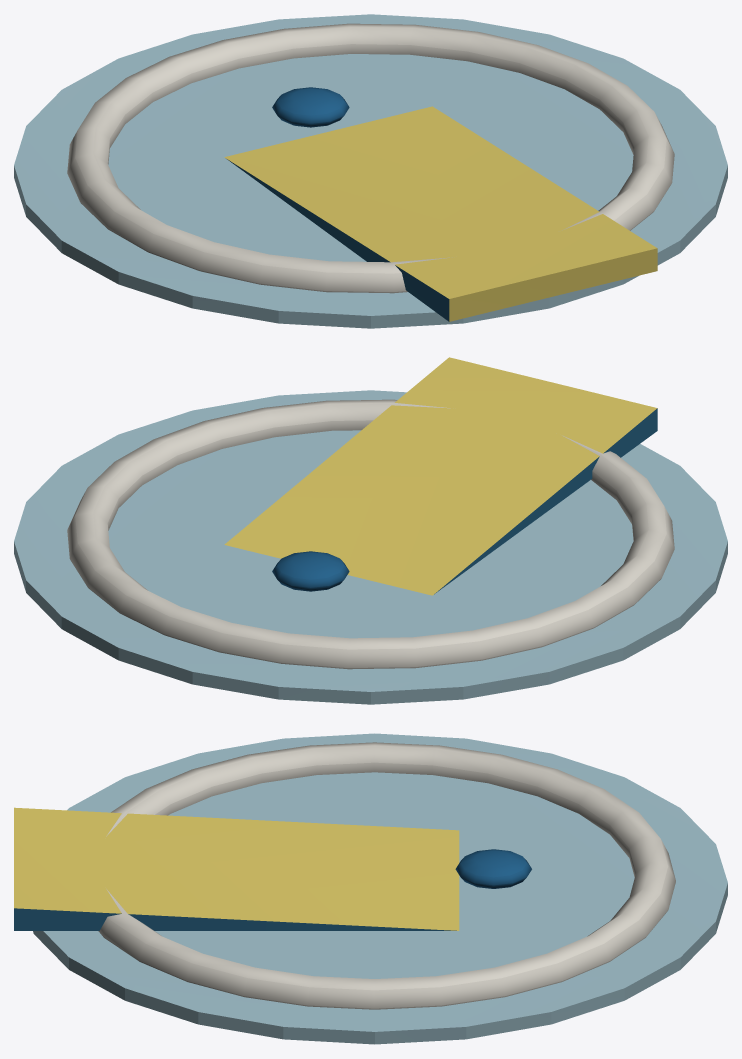
File: glacier_surface_inlay_v1.glb
The picture shows the model from 3 angles, top to bottom: view 1: azimuth 30°, elevation 25°; view 2: azimuth 150°, elevation 25°; view 3: azimuth 270°, elevation 25°; orthographic projection.
Visible parts, largest first — view 1: glacier_surface_inlay_v1; view 2: glacier_surface_inlay_v1; view 3: glacier_surface_inlay_v1.
Part boxes in pixels (x1,y1,x2,y2): glacier_surface_inlay_v1: (14,14,727,328); glacier_surface_inlay_v1: (14,357,727,704); glacier_surface_inlay_v1: (14,733,727,1044).
Size of the model in its own units: 1.84 by 0.1226 by 1.86.
